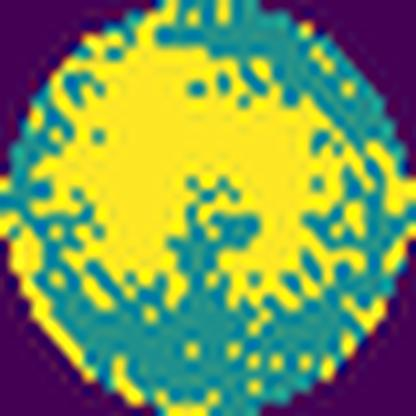Donut: (29, 22, 372, 334)
